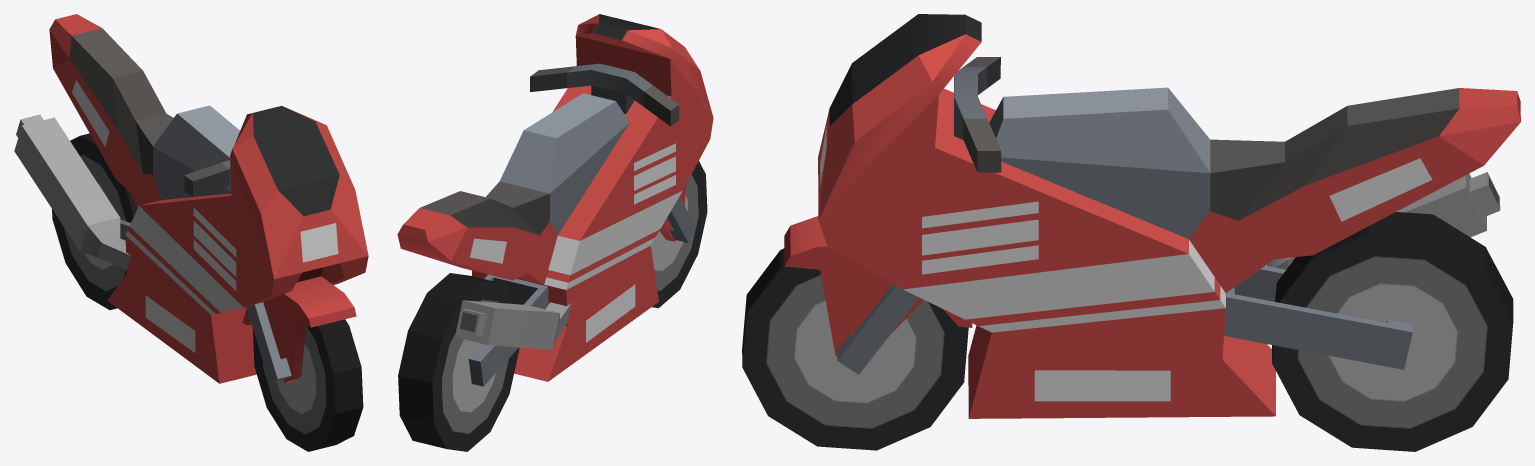
The model's file is motorbike.dae.
The picture shows the model from 3 angles, left to right: view 1: azimuth 30°, elevation 25°; view 2: azimuth 150°, elevation 25°; view 3: azimuth 270°, elevation 25°; orthographic projection. The views are drawn at different scales.
Parts seen in each view (by area): view 1: SR_Veh_MotorBike_Red, SR_Veh_MotorBike_Wheel_F, SR_Veh_MotorBike_Wheel_R; view 2: SR_Veh_MotorBike_Red, SR_Veh_MotorBike_Wheel_R, SR_Veh_MotorBike_Wheel_F; view 3: SR_Veh_MotorBike_Red, SR_Veh_MotorBike_Wheel_R, SR_Veh_MotorBike_Wheel_F.
Part boxes in pixels (<box>): SR_Veh_MotorBike_Red: <box>14,14,368,383</box>; SR_Veh_MotorBike_Wheel_F: <box>252,319,363,451</box>; SR_Veh_MotorBike_Wheel_R: <box>52,133,137,310</box>; SR_Veh_MotorBike_Red: <box>397,14,713,386</box>; SR_Veh_MotorBike_Wheel_R: <box>398,273,519,451</box>; SR_Veh_MotorBike_Wheel_F: <box>651,161,707,308</box>; SR_Veh_MotorBike_Red: <box>784,14,1520,418</box>; SR_Veh_MotorBike_Wheel_R: <box>1272,212,1513,451</box>; SR_Veh_MotorBike_Wheel_F: <box>742,248,968,450</box>.
Size of the model in its own units: 0.1583 by 0.5509 by 0.325.
